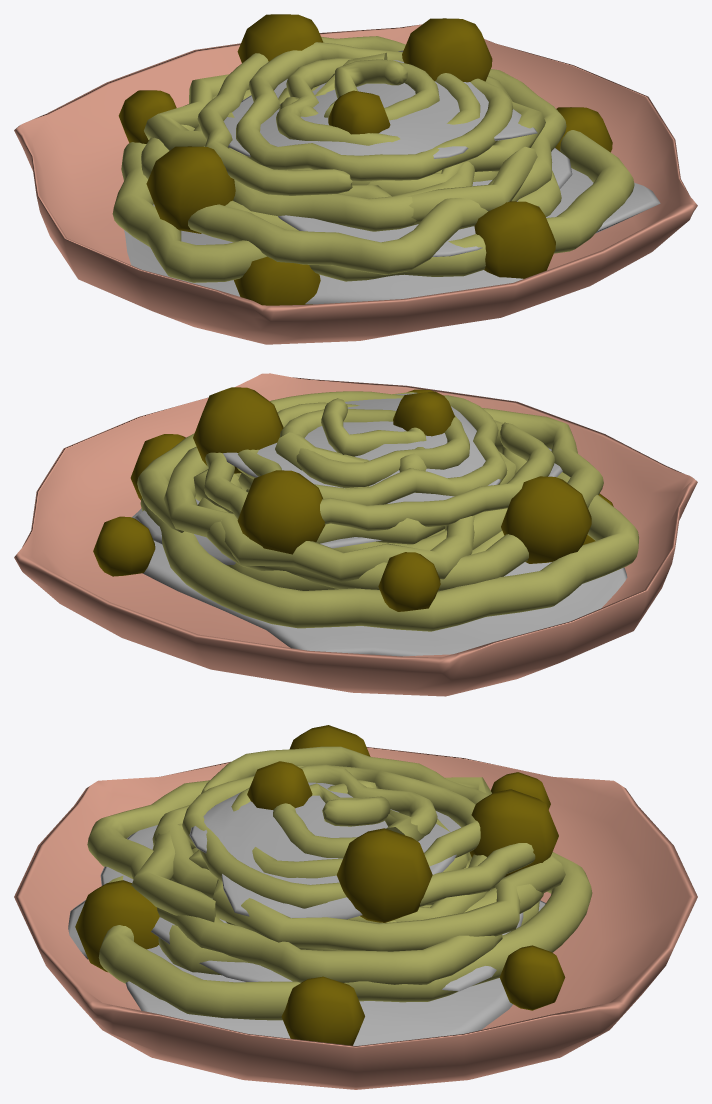
File: Spaghetti_Full.fbx
The picture shows the model from 3 angles, top to bottom: view 1: azimuth 30°, elevation 25°; view 2: azimuth 150°, elevation 25°; view 3: azimuth 270°, elevation 25°; orthographic projection. The views are drawn at different scales.
Visible parts, largest first — view 1: spaghetti_dishes:plate, spaghetti_dishes:piece10, spaghetti_dishes:piece12, spaghetti_dishes:piece13, spaghetti_dishes:piece11, spaghetti_dishes:salsa1, spaghetti_dishes:salsa3, spaghetti_dishes:pCube3, spaghetti_dishes:pCube4, spaghetti_dishes:pCube6, spaghetti_dishes:pCube10, spaghetti_dishes:pCube2 (+4 smaller); view 2: spaghetti_dishes:plate, spaghetti_dishes:piece10, spaghetti_dishes:piece13, spaghetti_dishes:piece11, spaghetti_dishes:piece12, spaghetti_dishes:salsa3, spaghetti_dishes:pCube3, spaghetti_dishes:pCube2, spaghetti_dishes:salsa1, spaghetti_dishes:pCube6, spaghetti_dishes:pCube8, spaghetti_dishes:pCube9 (+3 smaller); view 3: spaghetti_dishes:plate, spaghetti_dishes:piece10, spaghetti_dishes:piece12, spaghetti_dishes:piece11, spaghetti_dishes:piece13, spaghetti_dishes:salsa1, spaghetti_dishes:salsa3, spaghetti_dishes:pCube6, spaghetti_dishes:pCube2, spaghetti_dishes:pCube7, spaghetti_dishes:pCube4, spaghetti_dishes:pCube8 (+4 smaller).
Boxes of the visible parts, left/top/right/bottom form: spaghetti_dishes:plate: left=14, top=24, right=697, bottom=344; spaghetti_dishes:piece10: left=197, top=36, right=512, bottom=195; spaghetti_dishes:piece12: left=141, top=69, right=566, bottom=274; spaghetti_dishes:piece13: left=112, top=85, right=634, bottom=282; spaghetti_dishes:piece11: left=144, top=52, right=545, bottom=224; spaghetti_dishes:salsa1: left=223, top=50, right=537, bottom=158; spaghetti_dishes:salsa3: left=124, top=168, right=660, bottom=304; spaghetti_dishes:pCube3: left=146, top=146, right=235, bottom=233; spaghetti_dishes:pCube4: left=474, top=201, right=555, bottom=278; spaghetti_dishes:pCube6: left=402, top=18, right=492, bottom=82; spaghetti_dishes:pCube10: left=234, top=256, right=320, bottom=305; spaghetti_dishes:pCube2: left=237, top=14, right=323, bottom=62; spaghetti_dishes:plate: left=14, top=373, right=697, bottom=696; spaghetti_dishes:piece10: left=204, top=391, right=554, bottom=531; spaghetti_dishes:piece13: left=140, top=472, right=638, bottom=631; spaghetti_dishes:piece11: left=164, top=392, right=515, bottom=582; spaghetti_dishes:piece12: left=137, top=408, right=603, bottom=591; spaghetti_dishes:salsa3: left=132, top=508, right=627, bottom=656; spaghetti_dishes:pCube3: left=501, top=476, right=591, bottom=563; spaghetti_dishes:pCube2: left=237, top=470, right=325, bottom=554; spaghetti_dishes:salsa1: left=223, top=393, right=500, bottom=503; spaghetti_dishes:pCube6: left=193, top=387, right=283, bottom=473; spaghetti_dishes:pCube8: left=93, top=516, right=155, bottom=576; spaghetti_dishes:pCube9: left=378, top=552, right=440, bottom=611; spaghetti_dishes:plate: left=14, top=747, right=697, bottom=1089; spaghetti_dishes:piece10: left=182, top=746, right=535, bottom=908; spaghetti_dishes:piece12: left=87, top=779, right=543, bottom=984; spaghetti_dishes:piece11: left=131, top=777, right=565, bottom=951; spaghetti_dishes:piece13: left=98, top=847, right=592, bottom=1020; spaghetti_dishes:salsa1: left=189, top=782, right=460, bottom=919; spaghetti_dishes:salsa3: left=68, top=900, right=545, bottom=1045; spaghetti_dishes:pCube6: left=337, top=828, right=432, bottom=922; spaghetti_dishes:pCube2: left=469, top=789, right=558, bottom=877; spaghetti_dishes:pCube7: left=281, top=976, right=364, bottom=1045; spaghetti_dishes:pCube4: left=75, top=880, right=159, bottom=972; spaghetti_dishes:pCube8: left=499, top=945, right=565, bottom=1010.
Bounding box in the file's own units: 10.63 × 3.28 × 10.15.
